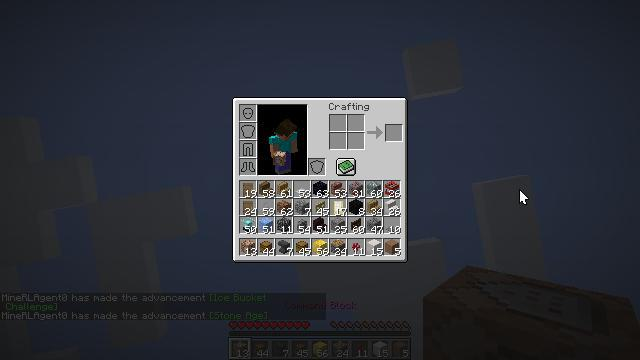cursor: (519, 189, 529, 205)
